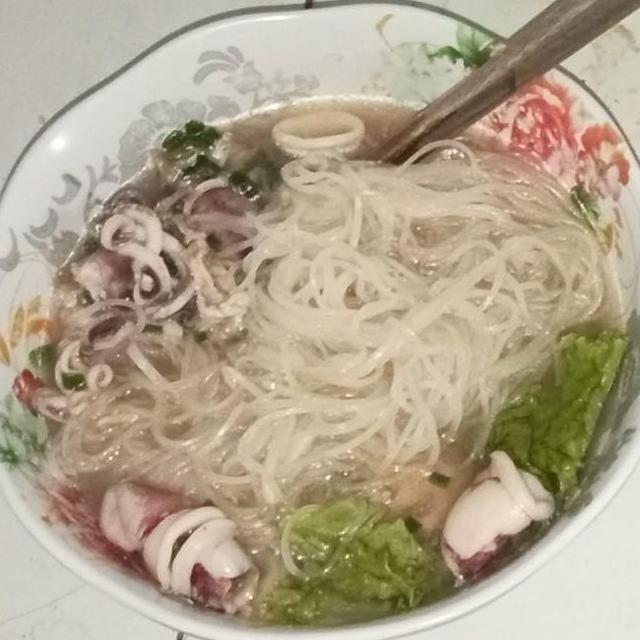banh hu tieu: (241, 136, 612, 526), (21, 328, 288, 524)
hu tieu: (0, 50, 640, 618)
muc: (94, 476, 264, 620), (59, 196, 198, 350), (434, 448, 559, 586), (163, 170, 269, 266), (268, 106, 369, 166)
